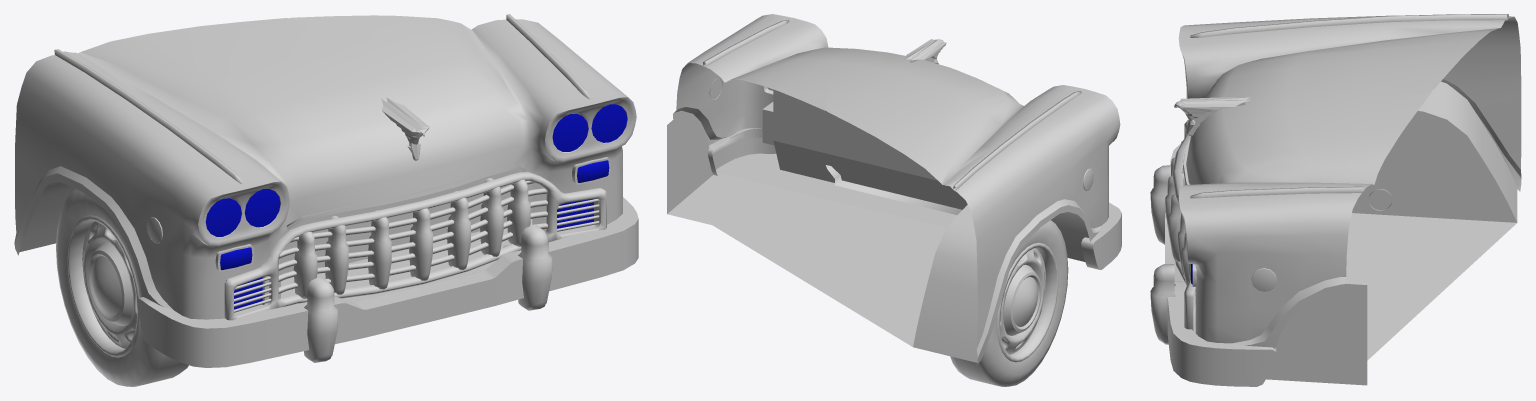
File: Before the car.fbx
3 views of the same model, side by side, from view 1: azimuth 30°, elevation 25°; view 2: azimuth 150°, elevation 25°; view 3: azimuth 270°, elevation 25° (orthographic). The views are drawn at different scales.
Parts seen in each view (by area): view 1: Before the car; view 2: Before the car; view 3: Before the car.
Part boxes in pixels (<box>): Before the car: <box>14,14,638,386</box>; Before the car: <box>667,14,1121,386</box>; Before the car: <box>1150,14,1521,386</box>.
Size of the model in its own units: 1.87 by 1.11 by 1.36.
